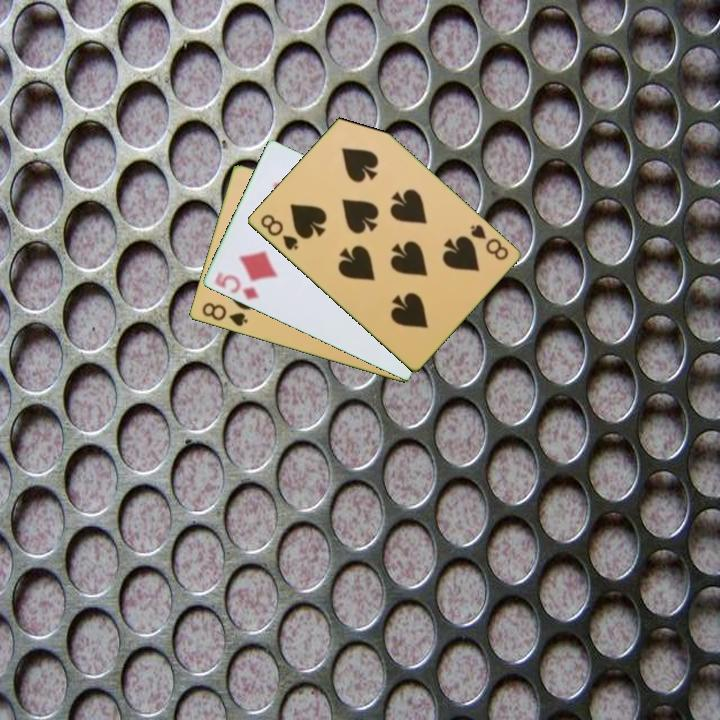5d: (211, 268, 262, 303)
8s: (256, 210, 301, 253), (466, 221, 511, 263), (198, 299, 250, 329)
